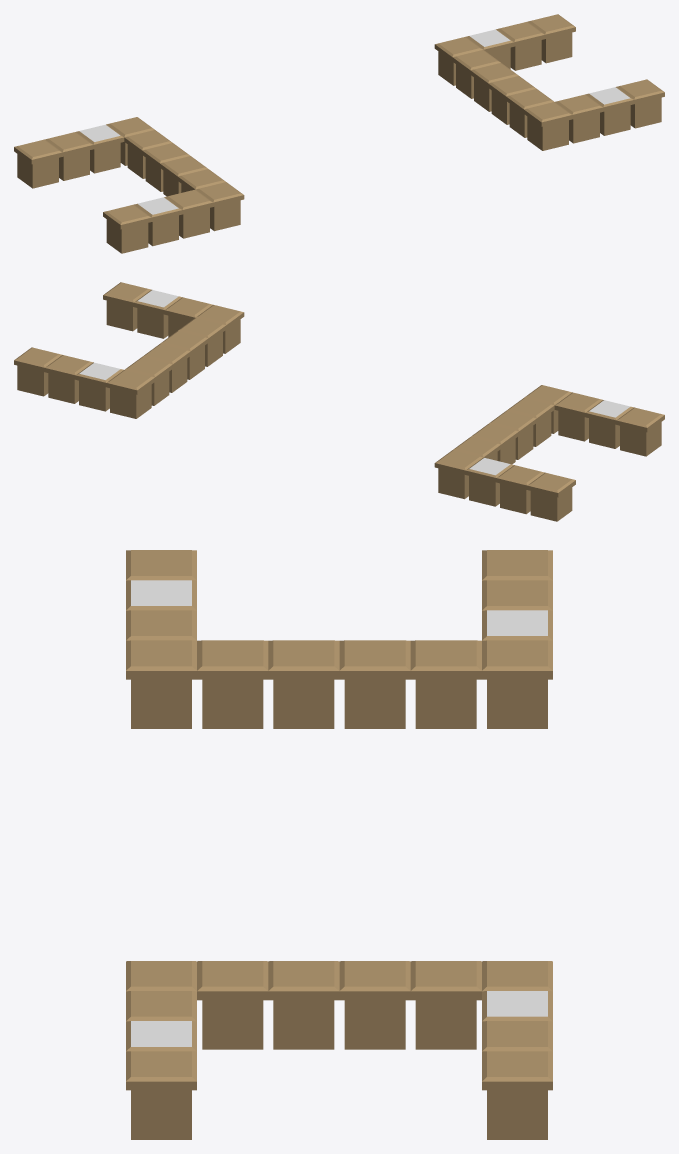
The model's file is Counters.fbx.
3 views of the same model, one above another, from view 1: azimuth 30°, elevation 25°; view 2: azimuth 150°, elevation 25°; view 3: azimuth 270°, elevation 25° (orthographic). The views are drawn at different scales.
Visible parts, largest first — view 1: Cube.007, Cube.006; view 2: Cube.007, Cube.006; view 3: Cube.006, Cube.007.
Boxes of the visible parts, x1,y1,x2,y2 form: Cube.007: (14, 117, 244, 253); Cube.006: (434, 14, 664, 150); Cube.007: (434, 385, 664, 521); Cube.006: (14, 282, 244, 418); Cube.006: (126, 961, 552, 1139); Cube.007: (126, 550, 552, 728).
Size of the model in its own units: 4121 by 228 by 1401.
